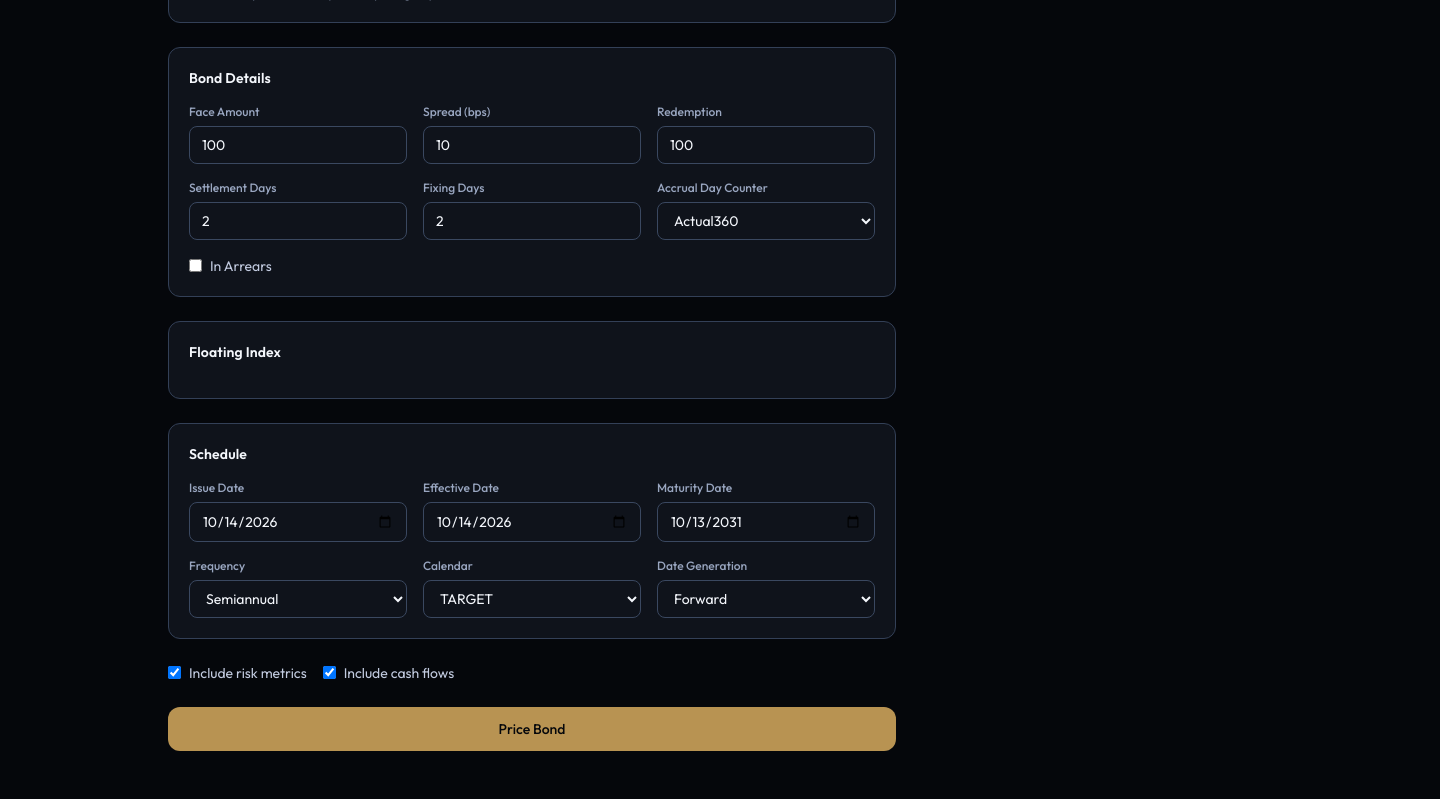
FloatingRateBond component — direct backend cutover › C2: bond_floating_not_found error — error UI rendered; no Pricing Results panel
(page scrolled)
Click the button "Price Bond" at {"x": 532, "y": 729}, box [168,707,896,751]
(page scrolled)
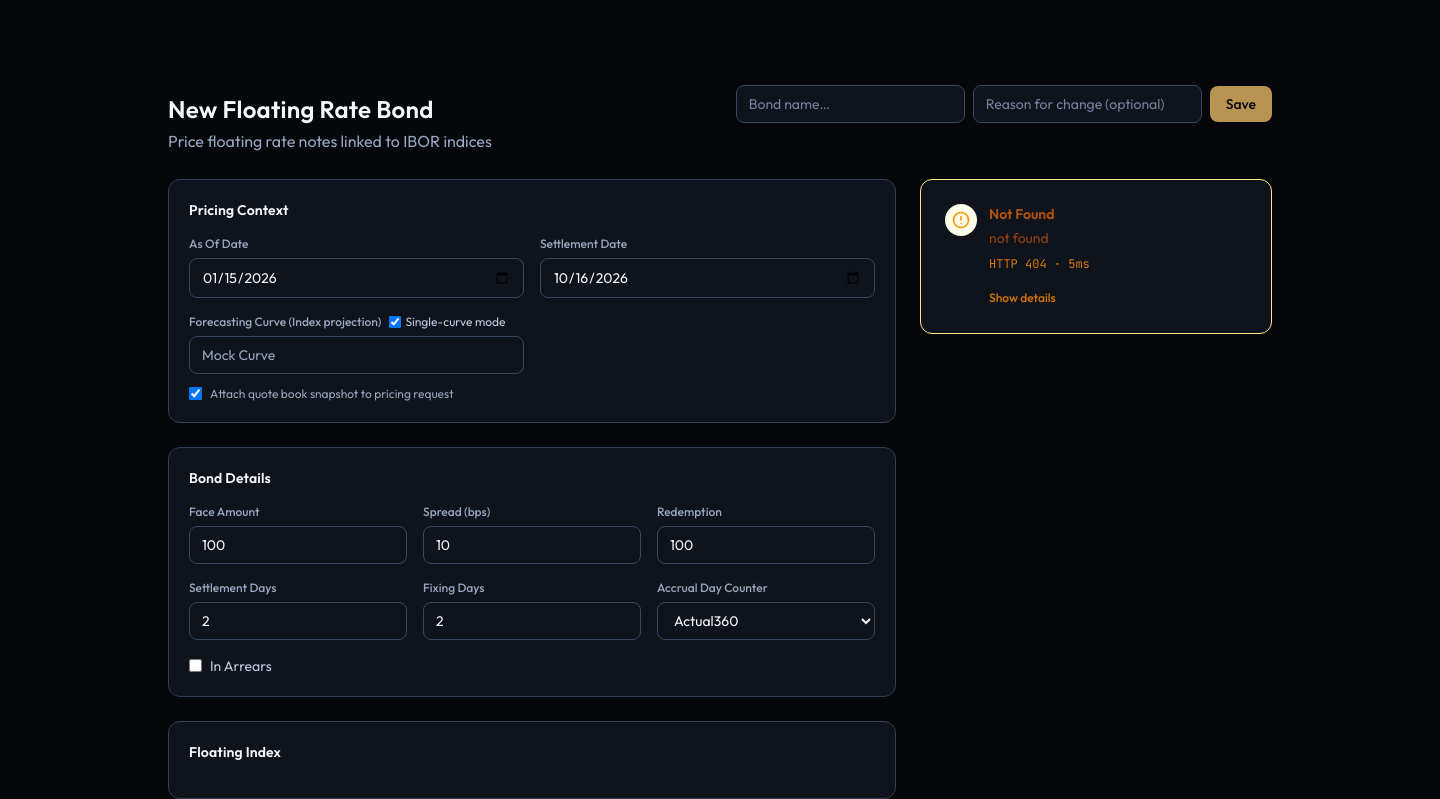
Expected: the text "Not Found" is shown, [989,205,1054,223]
